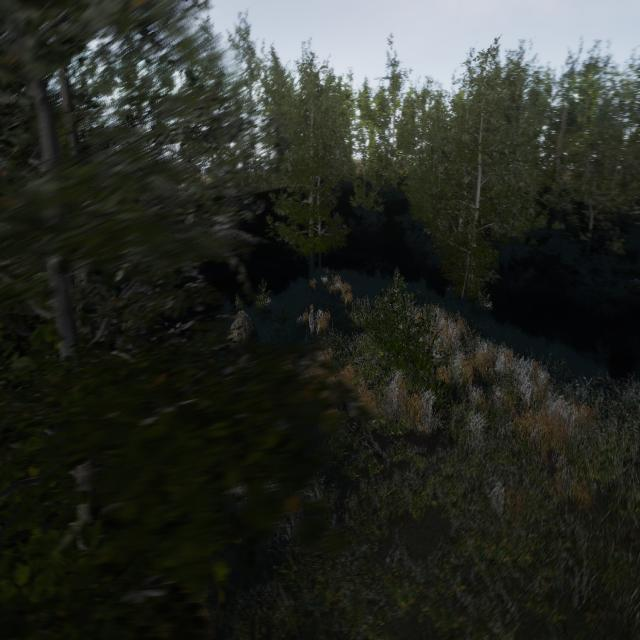Human: (304, 299, 319, 351)
